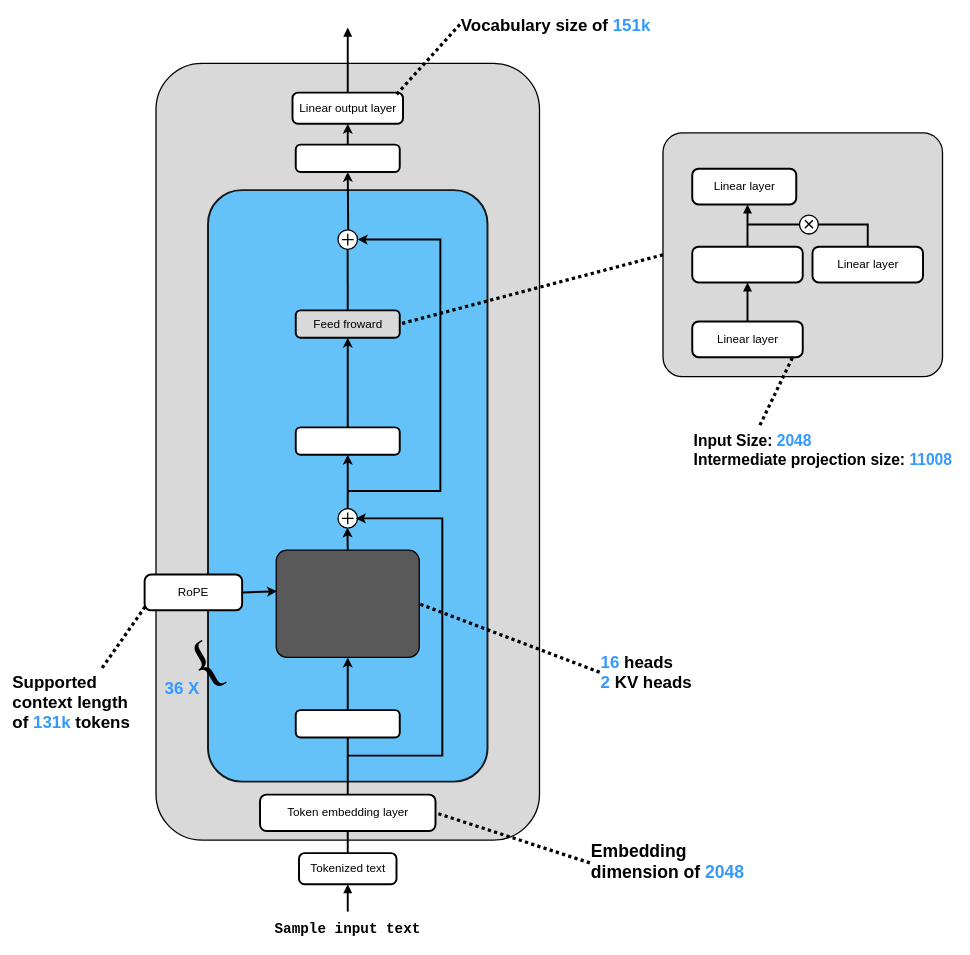
Image size: 970x955. Some labels were removed from this diagram. The shapes that lost their labels are listed below. From the top down, each one's centre as x and y in pixels, then its label:
the point at 347,158: Final RMSNorm
the point at 747,264: SiLU activation
the point at 347,440: RMSNorm 2
the point at 347,603: Grouped Query Attention( GQA )
the point at 347,723: RMSNorm 1
